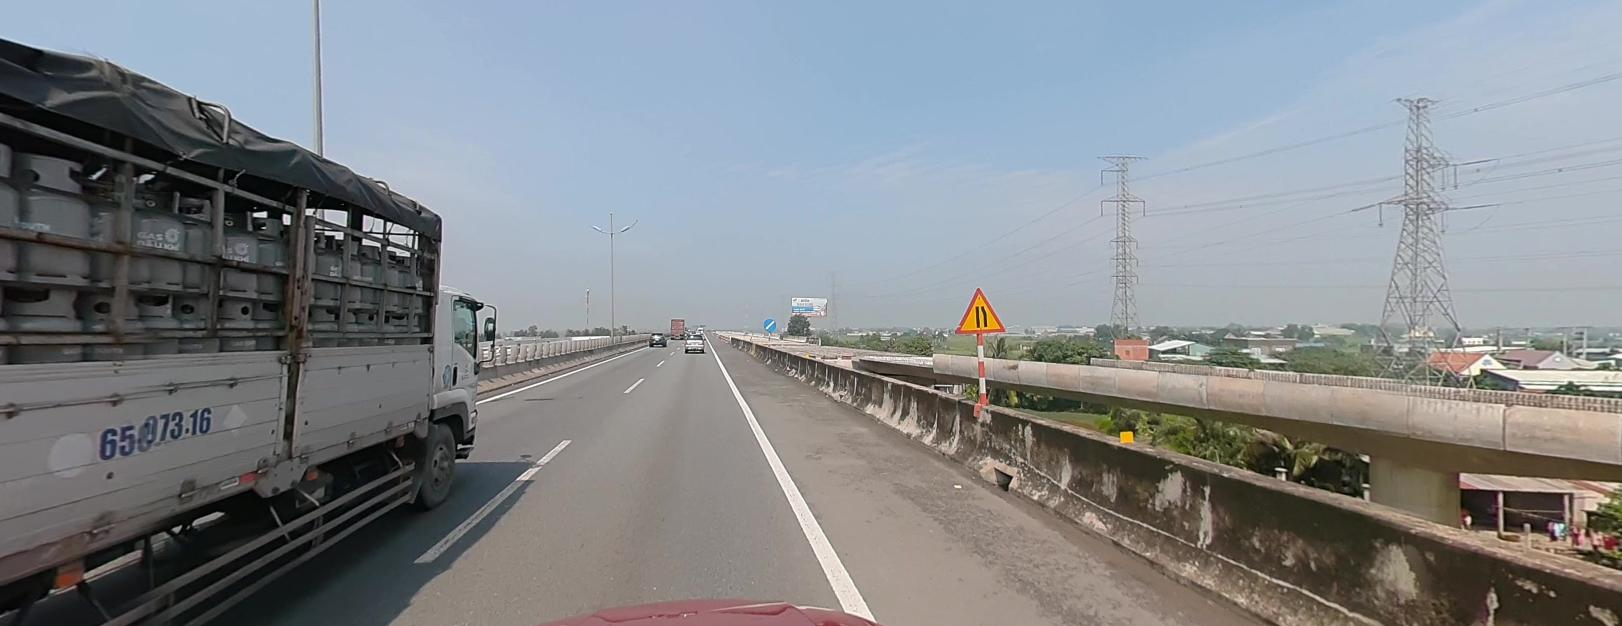Nguy hiem: (954, 284, 1007, 332), (763, 315, 777, 330)
